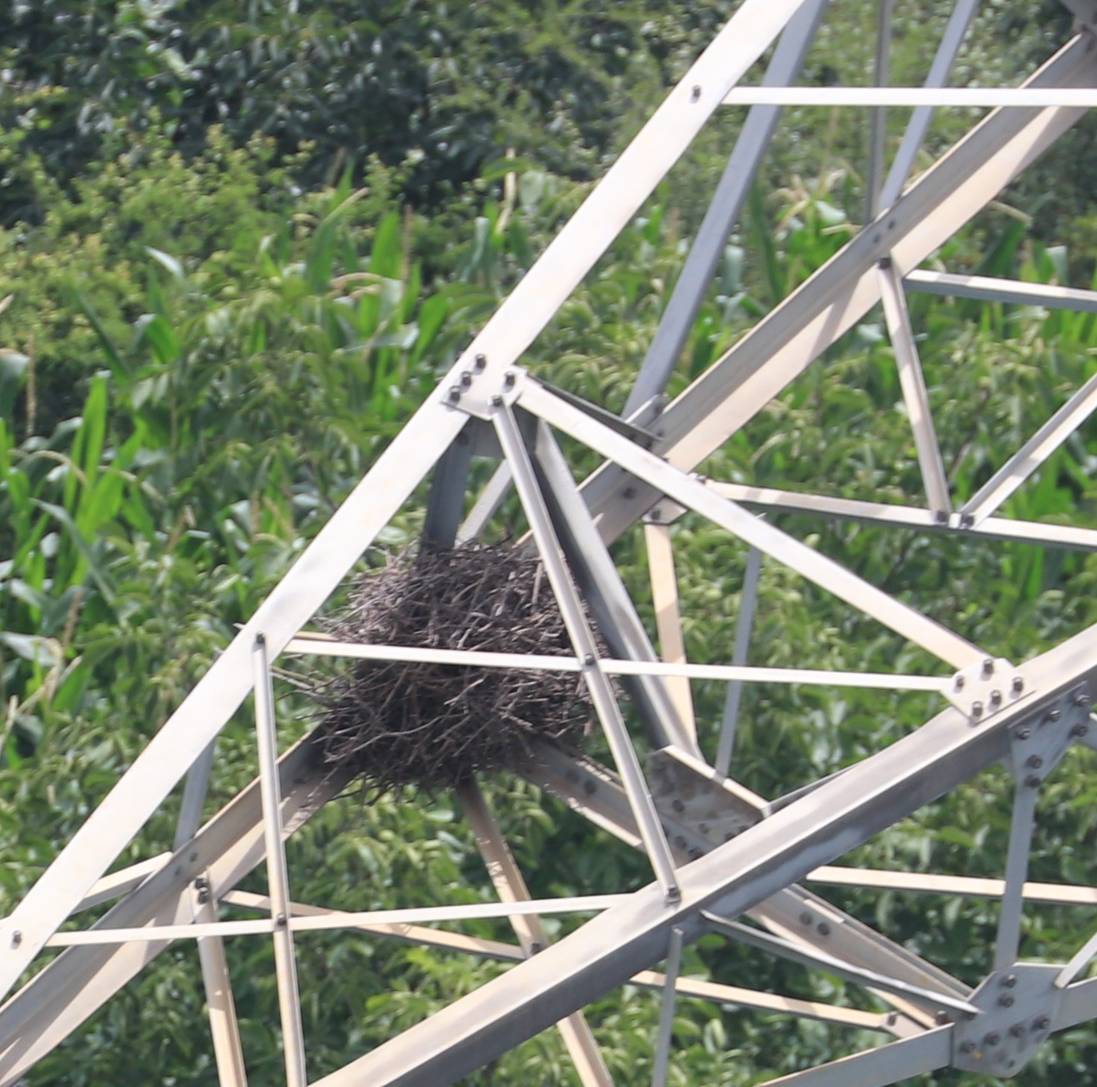nest: (278, 505, 599, 792)
